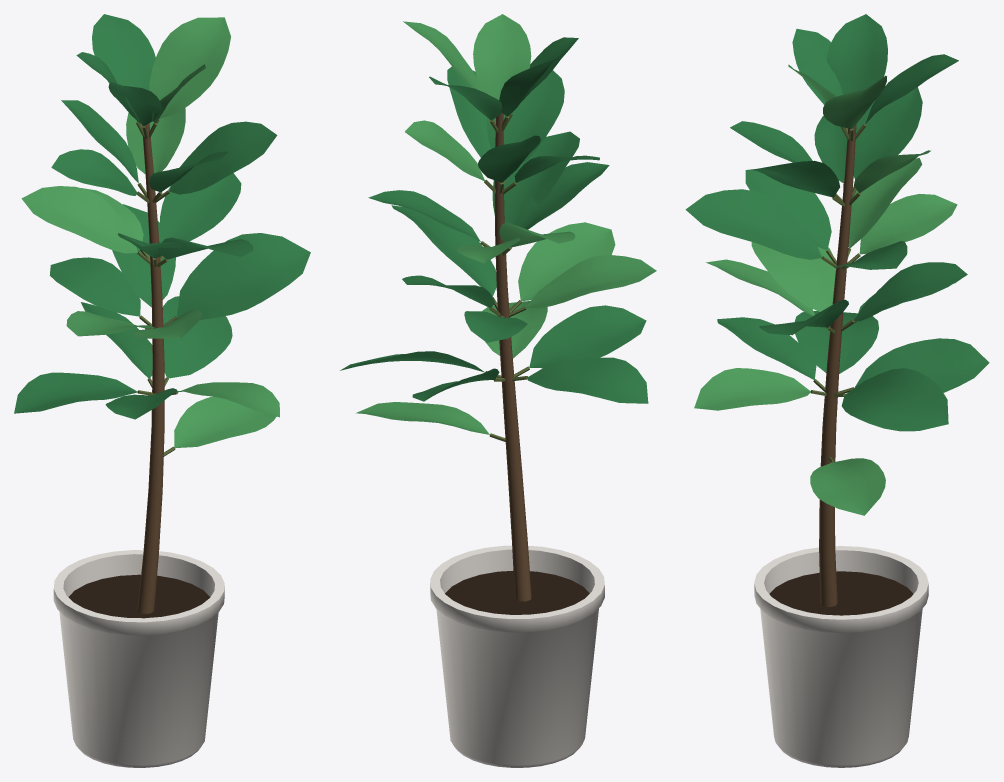
Rendered from ficus.fbx.
3 views of the same model, side by side, from view 1: azimuth 30°, elevation 25°; view 2: azimuth 150°, elevation 25°; view 3: azimuth 270°, elevation 25° (orthographic). The views are drawn at different scales.
Visible parts, largest first — view 1: ficus; view 2: ficus; view 3: ficus.
Part boxes in pixels (left/top/right/bottom): ficus: left=14, top=14, right=310, bottom=767; ficus: left=340, top=14, right=656, bottom=767; ficus: left=685, top=14, right=989, bottom=767.
Bounding box in the file's own units: 0.6657 × 1.6 × 0.6284.
